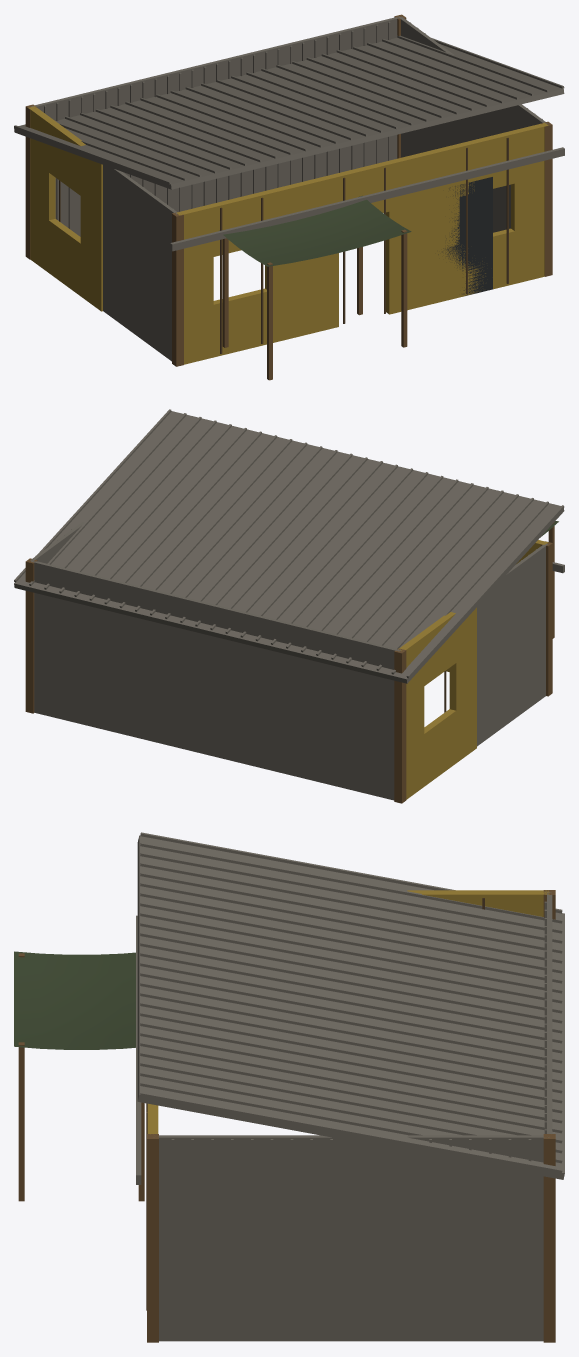
Rendered from bldg_yellow_shop.glb.
3 views of the same model, one above another, from view 1: azimuth 30°, elevation 25°; view 2: azimuth 150°, elevation 25°; view 3: azimuth 270°, elevation 25° (orthographic). The views are drawn at different scales.
Parts seen in each view (by area): view 1: WallPanel_Finished (×4), WallPanel_Tin (×6), RoofDeck, RoofPanel_Sloped, CamoNetSheet, CornerPost (×3), Bldg_YellowShop, CamoNetAwning; view 2: WallPanel_Tin (×5), RoofDeck, RoofPanel_Sloped, WallPanel_Finished, CornerPost (×3); view 3: WallPanel_Tin (×5), RoofDeck, RoofPanel_Sloped, CamoNetSheet, CornerPost (×2), WallPanel_Finished, CamoNetAwning.
Part boxes in pixels (<box>): WallPanel_Finished (×4): <box>28,106,548,364</box>; WallPanel_Tin (×6): <box>31,16,547,361</box>; RoofDeck: <box>14,37,564,189</box>; RoofPanel_Sloped: <box>14,35,564,251</box>; CamoNetSheet: <box>219,195,411,266</box>; CornerPost (×3): <box>25,104,552,366</box>; Bldg_YellowShop: <box>438,177,492,295</box>; CamoNetAwning: <box>222,229,407,380</box>; WallPanel_Tin (×5): <box>30,522,547,800</box>; RoofDeck: <box>14,411,564,683</box>; RoofPanel_Sloped: <box>14,409,564,678</box>; WallPanel_Finished: <box>398,607,476,799</box>; CornerPost (×3): <box>25,541,552,803</box>; WallPanel_Tin (×5): <box>158,892,552,1341</box>; RoofDeck: <box>137,835,564,1179</box>; RoofPanel_Sloped: <box>136,832,562,1184</box>; CamoNetSheet: <box>14,951,135,1049</box>; CornerPost (×2): <box>147,1134,555,1342</box>; WallPanel_Finished: <box>407,890,549,916</box>; CamoNetAwning: <box>18,953,144,1201</box>.
Bounding box in the file's own units: 8.22 × 3.75 × 7.33.
